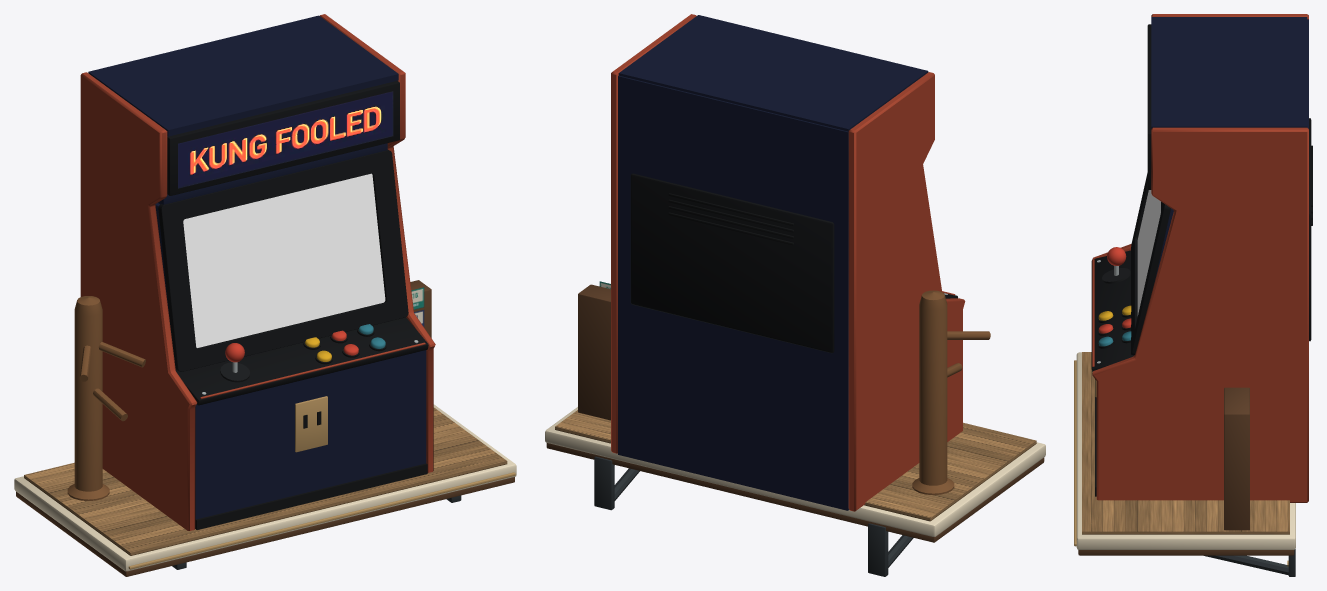
The model's file is set-kungfooled.glb.
3 views of the same model, side by side, from view 1: azimuth 30°, elevation 25°; view 2: azimuth 150°, elevation 25°; view 3: azimuth 270°, elevation 25° (orthographic). The views are drawn at different scales.
Visible parts, largest first — view 1: set__cab_deep, set__cab_side, set__deck_black, mover_screen, set__tatami, set__marquee_lit, set__cream, set__dummy_wood, set__wood_dark, set__rubber_black, set__brass; view 2: set__cab_deep, set__cab_side, set__deck_black, set__tatami, set__wood_dark, set__dummy_wood, set__cream, set__steel_dark, set__rubber_black; view 3: set__cab_side, set__cab_deep, set__tatami, set__deck_black, set__wood_dark, set__cream, mover_screen, set__steel_dark, set__rubber_black, set__brass.
Boxes of the visible parts, x1,y1,x2,y2 form: set__cab_deep: (88,15,426,519); set__cab_side: (80,14,435,530); set__deck_black: (158,81,428,405); mover_screen: (183,173,385,347); set__tatami: (24,407,507,555); set__marquee_lit: (178,91,393,188); set__cream: (14,404,516,571); set__dummy_wood: (67,296,145,500); set__wood_dark: (16,280,514,576); set__rubber_black: (195,328,427,529); set__brass: (128,396,515,569); set__cab_deep: (618,15,928,510); set__cab_side: (611,14,965,511); set__deck_black: (630,173,957,353); set__tatami: (555,410,1036,521); set__wood_dark: (546,284,1044,542); set__dummy_wood: (912,290,990,495); set__cream: (545,407,1045,536); set__steel_dark: (594,456,913,576); set__rubber_black: (668,193,793,245); set__cab_side: (1092,14,1308,502); set__cab_deep: (1151,17,1308,281); set__tatami: (1082,352,1289,534); set__deck_black: (1091,24,1311,371); set__wood_dark: (1078,387,1294,555); set__cream: (1076,352,1295,549); mover_screen: (1137,190,1160,315); set__steel_dark: (1204,549,1295,576); set__rubber_black: (1095,145,1312,496); set__brass: (1074,360,1288,566).
Size of the model in its own units: 5.1 by 5.58 by 2.76.
Materials: 18 (3 with a texture image).
